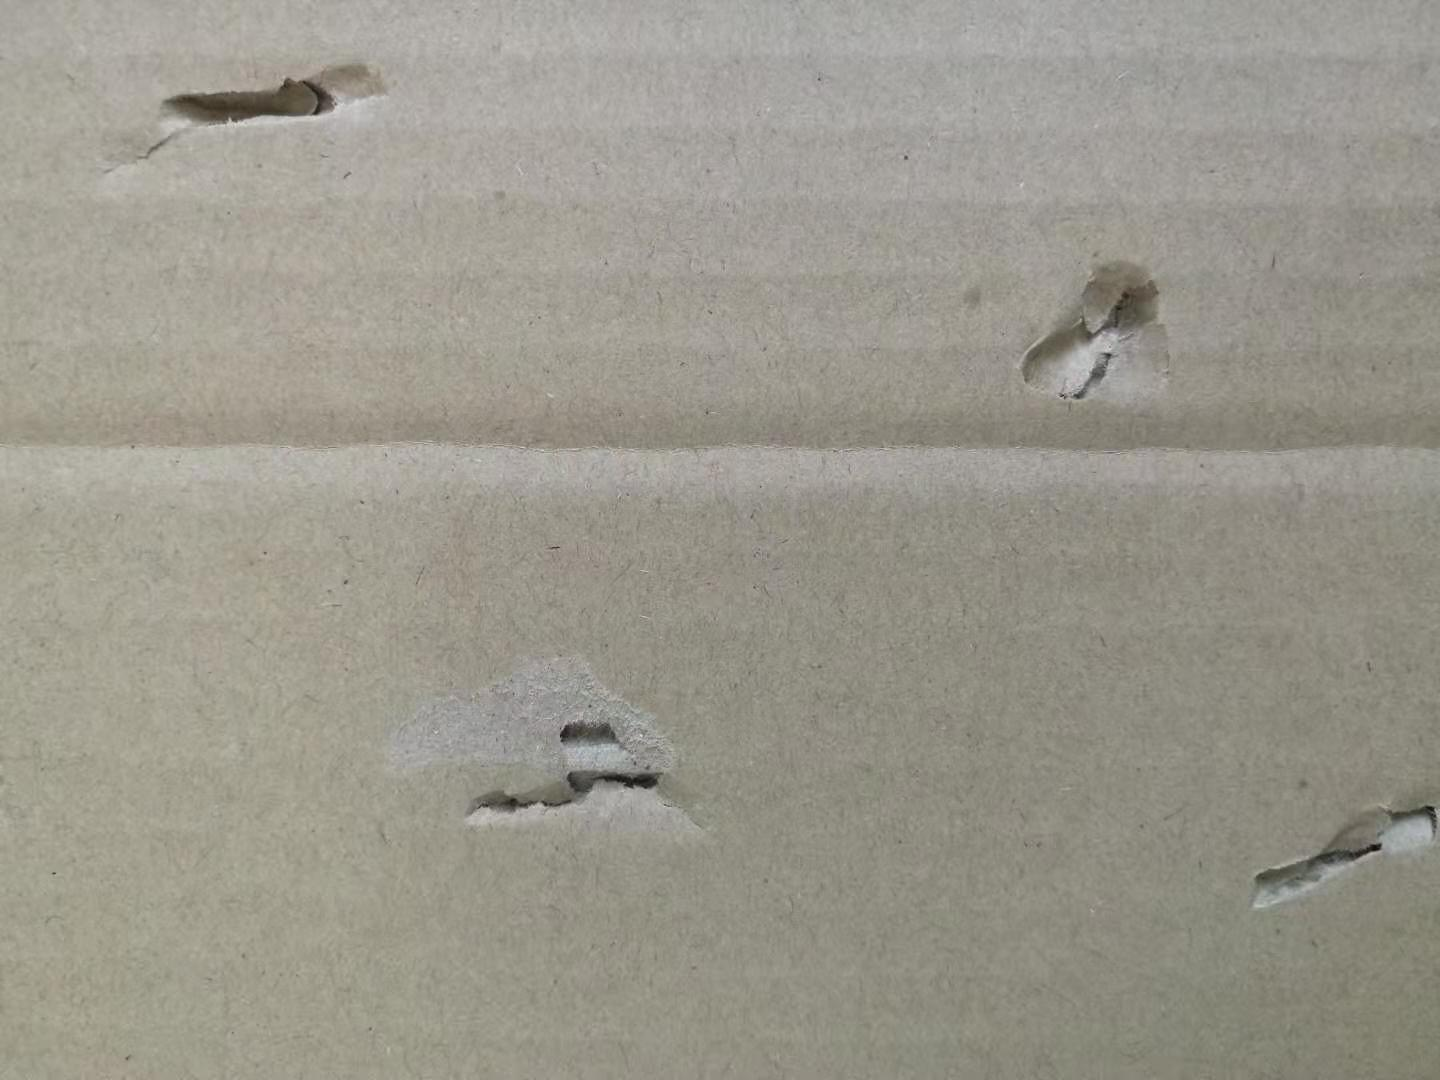defect: (2, 385, 1440, 514), (366, 635, 757, 877), (70, 41, 420, 194), (993, 236, 1212, 421), (1220, 765, 1440, 931)
